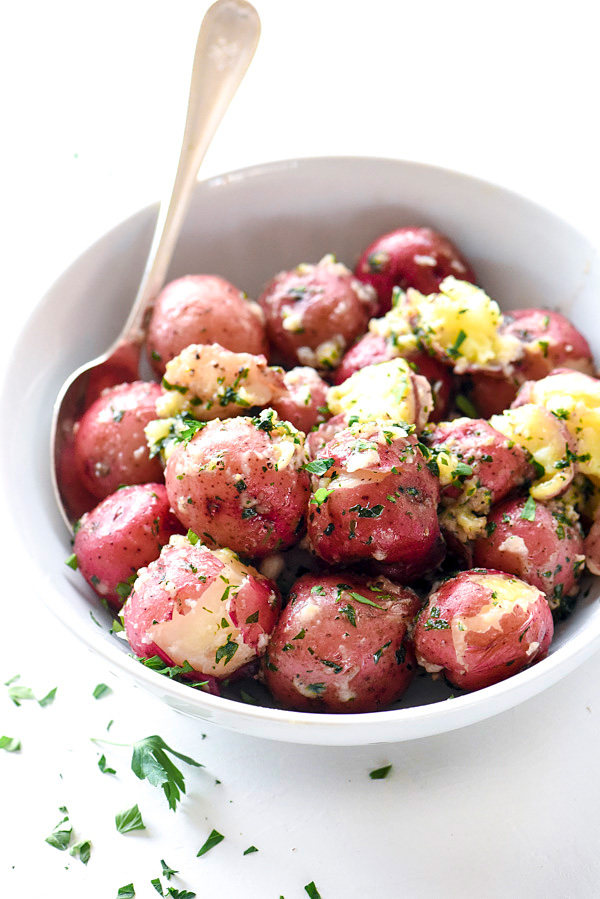boiled potatoes: (95, 264, 579, 662)
